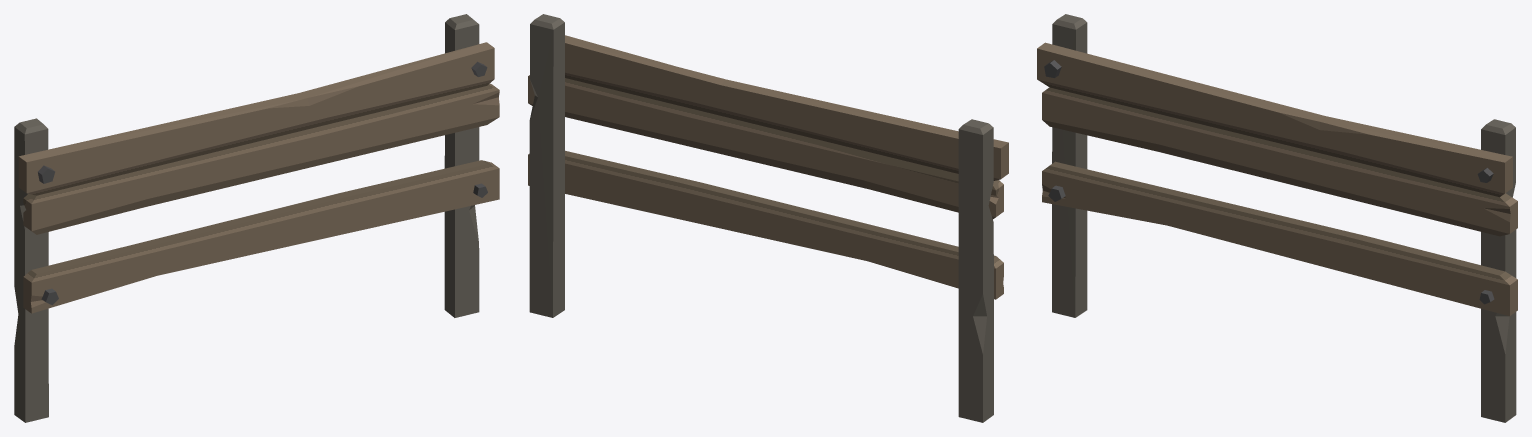
Rendered from SM_Bld_Village_Fence_02.glb.
3 renders of one model, left to right at view 1: azimuth 30°, elevation 25°; view 2: azimuth 150°, elevation 25°; view 3: azimuth 330°, elevation 25°, orthographic.
Parts seen in each view (by area): view 1: SM_Bld_Village_Fence_02; view 2: SM_Bld_Village_Fence_02; view 3: SM_Bld_Village_Fence_02.
Part boxes in pixels (left/top/right/bottom): SM_Bld_Village_Fence_02: left=14, top=14, right=499, bottom=422; SM_Bld_Village_Fence_02: left=528, top=14, right=1008, bottom=422; SM_Bld_Village_Fence_02: left=1037, top=14, right=1517, bottom=422.
Size of the model in its own units: 2.91 by 1.72 by 0.2483.
1 material, 1 textured.
